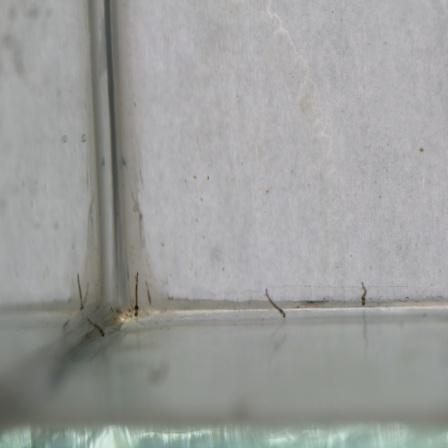Jentik-Nyamuk: (262, 286, 289, 322), (127, 269, 143, 322), (84, 317, 107, 340), (357, 278, 370, 308)
